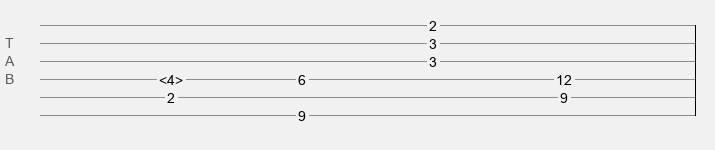12: (556, 72, 572, 82)
2: (167, 90, 175, 100), (429, 18, 437, 28)
3: (429, 54, 437, 64), (429, 36, 437, 46)
6: (298, 72, 306, 82)
9: (298, 108, 306, 118), (560, 90, 568, 100)
harmonic: (159, 72, 183, 82)
